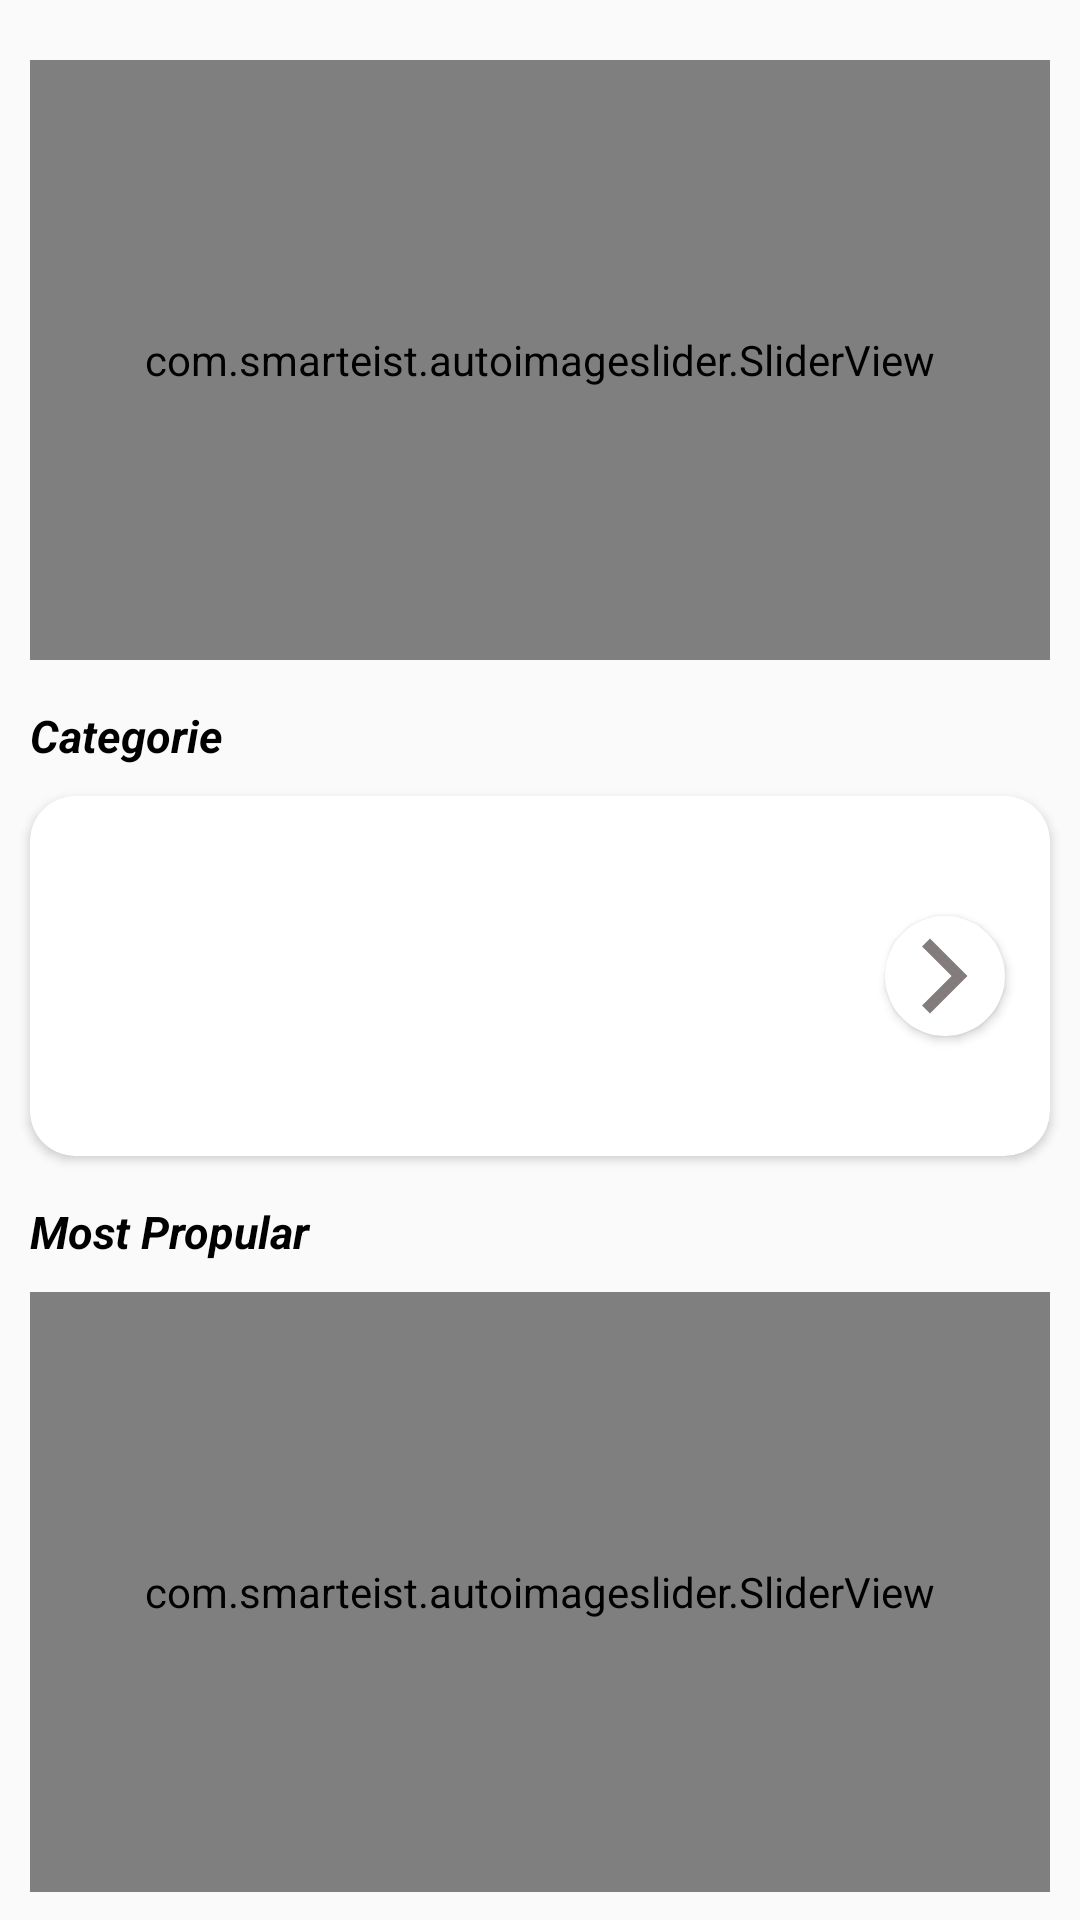

Screen size 1080w x 1920h. Icon name, then its box in pixels as BBox(x1, y1, x2, y2):
arrow: BBox(922, 939, 967, 1013)
